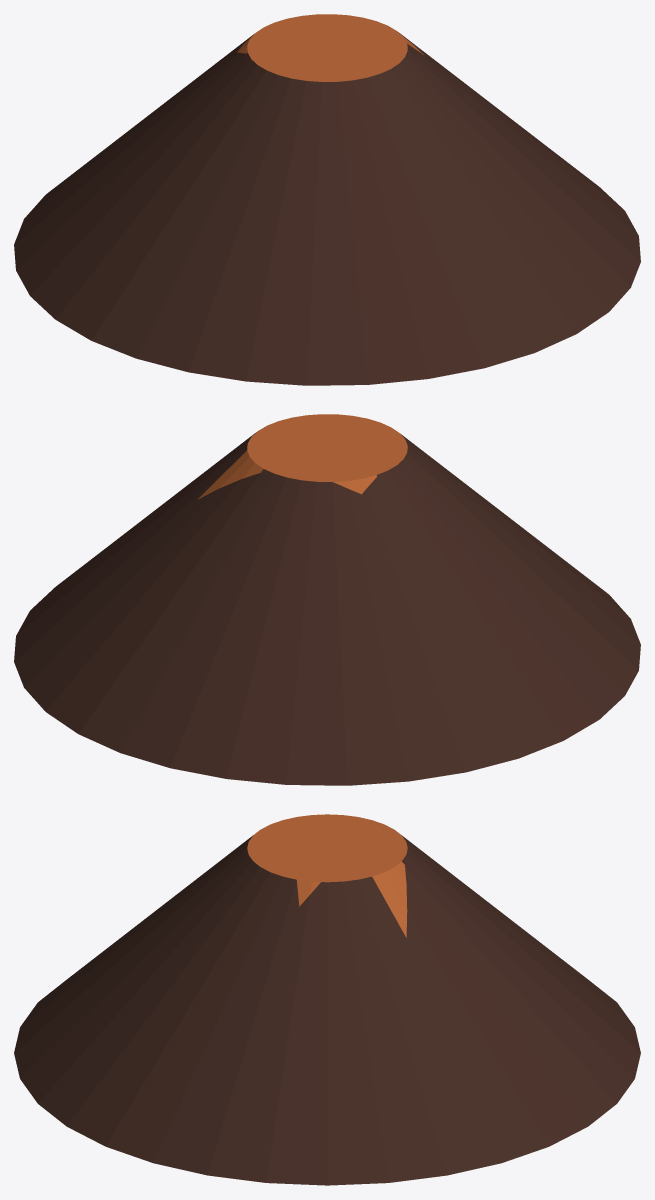
Rendered from Volcano.fbx.
3 views of the same model, one above another, from view 1: azimuth 30°, elevation 25°; view 2: azimuth 150°, elevation 25°; view 3: azimuth 270°, elevation 25° (orthographic).
Visible parts, largest first — view 1: Cone; view 2: Cone; view 3: Cone.
Boxes of the visible parts, x1,y1,x2,y2 form: Cone: (14,14,640,385); Cone: (14,414,640,785); Cone: (14,814,640,1185).
Size of the model in its own units: 2410 by 868 by 2410.
